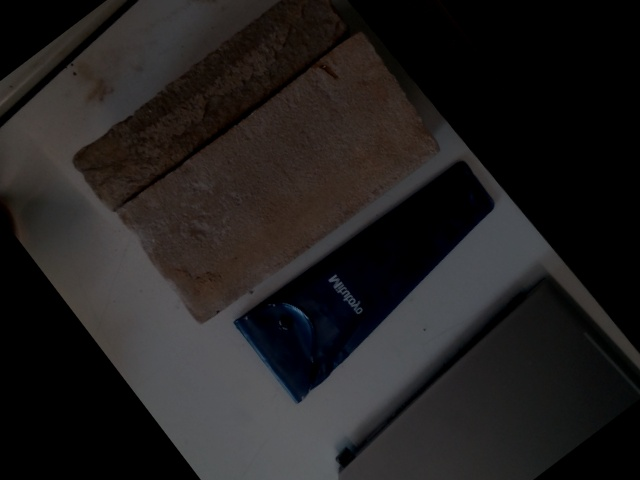brick: (117, 30, 444, 324)
